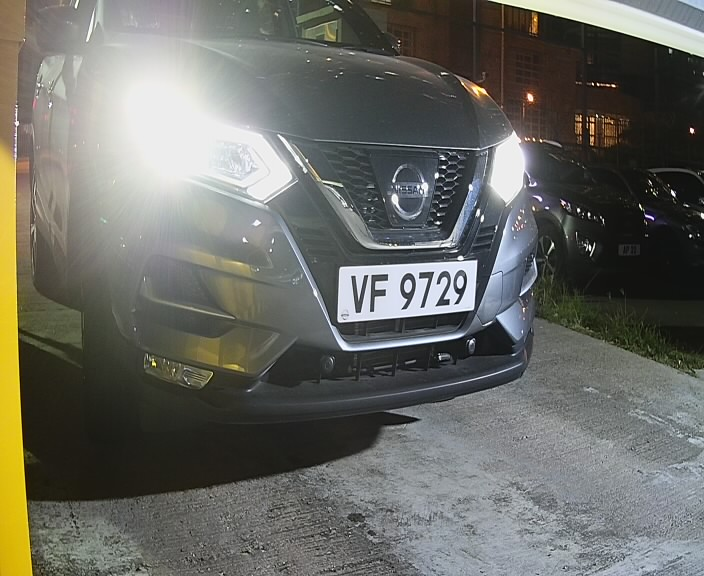Car: (21, 2, 550, 450)
License Plate: (331, 249, 486, 333)
